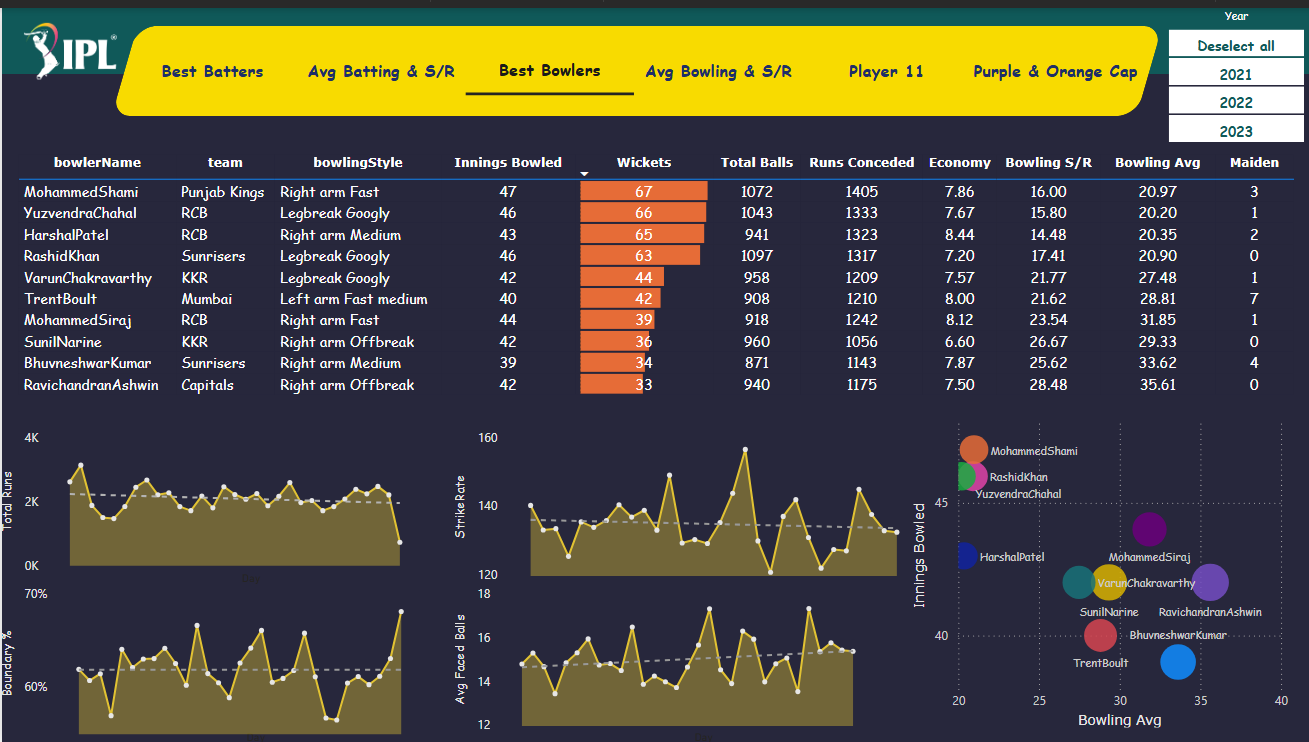

What the dashboard file says about the page in this screenshot:
{"tool":"powerbi","page":{"name":"Best Bowlers","canvas":[1280,720],"ordinal":2},"visuals":[{"type":"shape","box":[0,64.6,1280.5,655.2],"z":0},{"type":"shape","box":[107.1,17.6,1028.7,88],"z":1000},{"type":"image","box":[15.8,6.3,100.8,72.5],"z":2000},{"type":"advancedSlicerVisual","fields":{"Values":["dim_match_summary.matchdate.Variation.Date Hierarchy.Year"]},"box":[1135.8,0,143.8,137.9],"z":3000},{"type":"tableEx","fields":{"Values":["fact_bowling_summary.bowlerName","dim_players.team","dim_players.bowlingStyle","All_Measures.Total Innings Bowled","All_Measures.Wickets","All_Measures.Total Balls","All_Measures.Runs Conceded","All_Measures.Economy","All_Measures.Bowling Strike Rate","All_Measures.Bowling Average","Sum(fact_bowling_summary.maiden)"]},"box":[10.3,137.9,1264.9,253.9],"z":4000},{"type":"lineChart","fields":{"Y":["All_Measures.Boundary %"],"Category":["dim_match_summary.matchdate.Variation.Date Hierarchy.Day"]},"box":[0,563.9,442.6,155.9],"z":5000},{"type":"lineChart","fields":{"Category":["dim_match_summary.matchdate.Variation.Date Hierarchy.Day"],"Y":["All_Measures.Total Runs"]},"box":[0,411.1,442.6,152.8],"z":6000},{"type":"lineChart","fields":{"Y":["All_Measures.Avg Faced Balls"],"Category":["dim_match_summary.matchdate.Variation.Date Hierarchy.Day"]},"box":[442.6,563.9,442.6,155.9],"z":7000},{"type":"lineChart","fields":{"Y":["All_Measures.StrikeRate"],"Category":["dim_match_summary.matchdate.Variation.Date Hierarchy.Day"]},"box":[442.6,411.1,442.6,152.8],"z":8000},{"type":"scatterChart","fields":{"X":["All_Measures.Bowling Avg"],"Y":["All_Measures.Innings Bowled"],"Category":["fact_bowling_summary.bowlerName"],"Size":["All_Measures.Bowling S/R"]},"box":[886.3,391.8,377.1,317],"z":9000},{"type":"pageNavigator","box":[123.3,36.7,994.9,49.9],"z":10000}]}

Visuals, with their boxes in screenshot pixels (x1, y1, x2, y2), scaled from the page's 1280x720 canvas onto the 1309x742 screenshot:
shape: Rect(0, 67, 1308, 741)
shape: Rect(110, 18, 1162, 109)
image: Rect(16, 6, 119, 81)
advancedSlicerVisual - dim_match_summary.matchdate.Variation.Date Hierarchy.Year: Rect(1162, 0, 1308, 142)
tableEx - fact_bowling_summary.bowlerName x dim_players.team: Rect(11, 142, 1304, 404)
lineChart - All_Measures.Boundary % x dim_match_summary.matchdate.Variation.Date Hierarchy.Day: Rect(0, 581, 453, 741)
lineChart - dim_match_summary.matchdate.Variation.Date Hierarchy.Day x All_Measures.Total Runs: Rect(0, 424, 453, 581)
lineChart - All_Measures.Avg Faced Balls x dim_match_summary.matchdate.Variation.Date Hierarchy.Day: Rect(453, 581, 905, 741)
lineChart - All_Measures.StrikeRate x dim_match_summary.matchdate.Variation.Date Hierarchy.Day: Rect(453, 424, 905, 581)
scatterChart - All_Measures.Bowling Avg x All_Measures.Innings Bowled: Rect(906, 404, 1292, 730)
pageNavigator: Rect(126, 38, 1144, 89)
